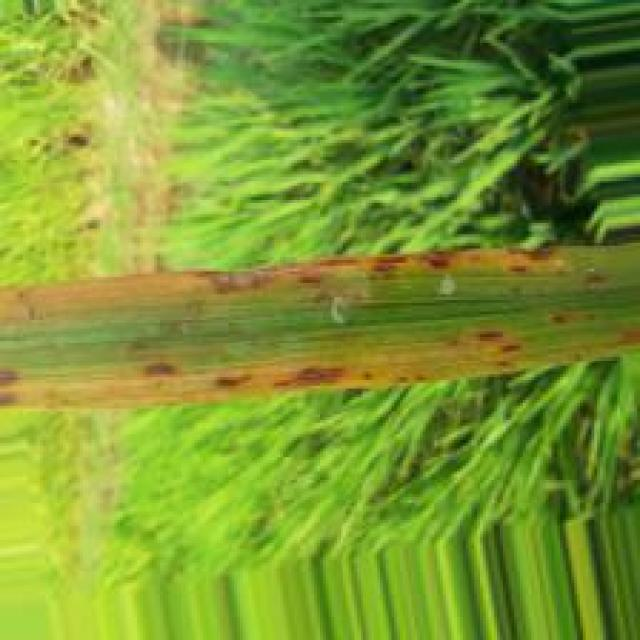Narrow_Brown_Leaf_Spot: (0, 322, 640, 411), (1, 242, 617, 323), (552, 309, 568, 331)
